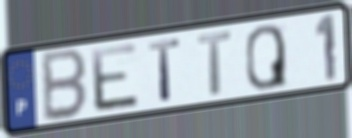1: (313, 11, 339, 86)
B: (41, 46, 90, 125)
E: (89, 41, 142, 115)
Q: (244, 22, 290, 92)
T: (195, 28, 234, 98), (147, 36, 184, 103)
